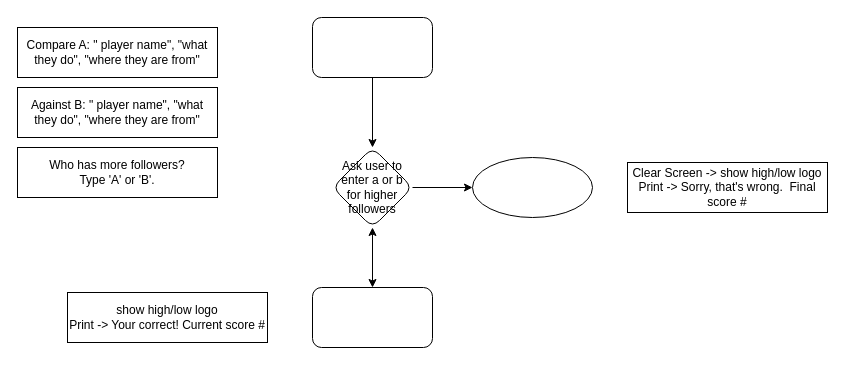
This 845x365 diagram has some shape labels left out. The shapes that lost their labels are listed below. From the top down, each one's box as (x1, y1, x2, y2) in pixels, then its label:
(312, 16, 432, 78): Start game with High vs Low logo
(472, 156, 592, 218): User enters incorrect value -> game exits -> # of attemps is printed
(312, 286, 432, 348): Correct answer -> previous Star is A new Star is B
